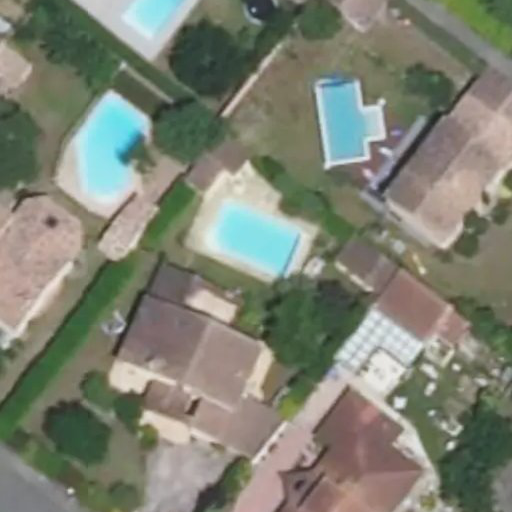pool: (75, 103, 152, 203), (209, 205, 302, 281), (318, 81, 374, 164), (126, 1, 191, 41)
